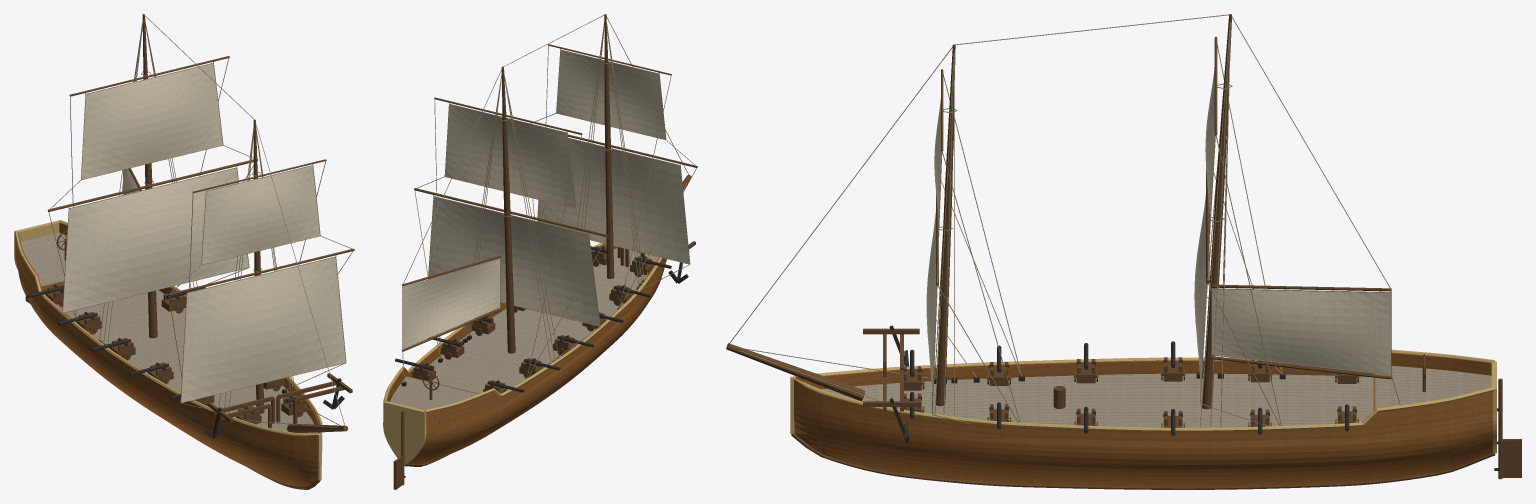
File: ship.glb
The picture shows the model from 3 angles, left to right: view 1: azimuth 30°, elevation 25°; view 2: azimuth 150°, elevation 25°; view 3: azimuth 270°, elevation 25°; orthographic projection. The views are drawn at different scales.
Parts seen in each view (by area): view 1: fore_square_00, main_square_00, main_square_01, hull_shell_starboard, fore_square_01, main_deck, castle_deck_0, gunwale_starboard, main, main_square_00_yard, stern_closure, fore_square_00_yard (+5 smaller); view 2: main_square_00, fore_square_00, main_square_01, main_deck, hull_shell_starboard, fore_square_01, main_gaff_02, stern_closure, main, fore, castle_deck_0, gunwale_starboard (+8 smaller); view 3: hull_shell_port, main_deck, main_gaff_02, hull_shell_starboard, castle_deck_0, gunwale_port, main, fore, keel, gunwale_starboard, bowsprit, main_square_00 (+2 smaller).
Part boxes in pixels (x1,y1,x2,y2): fore_square_00: [181, 257, 345, 402]; main_square_00: [63, 168, 248, 312]; main_square_01: [81, 63, 222, 179]; hull_shell_starboard: [16, 232, 317, 486]; fore_square_01: [202, 165, 319, 264]; main_deck: [56, 290, 317, 433]; castle_deck_0: [21, 232, 66, 286]; gunwale_starboard: [14, 230, 317, 436]; main: [142, 14, 157, 338]; main_square_00_yard: [47, 159, 257, 211]; stern_closure: [14, 220, 59, 269]; fore_square_00_yard: [168, 248, 354, 295]; main_square_00: [428, 197, 599, 326]; fore_square_00: [537, 138, 689, 263]; main_square_01: [445, 104, 575, 208]; main_deck: [430, 248, 658, 393]; hull_shell_starboard: [407, 257, 666, 464]; fore_square_01: [556, 50, 665, 139]; main_gaff_02: [403, 259, 499, 348]; stern_closure: [383, 401, 426, 464]; main: [501, 66, 515, 353]; fore: [604, 14, 614, 278]; castle_deck_0: [390, 376, 477, 410]; gunwale_starboard: [424, 257, 661, 412]; hull_shell_port: [794, 379, 1493, 487]; main_deck: [821, 373, 1373, 427]; main_gaff_02: [1212, 289, 1390, 374]; hull_shell_starboard: [795, 352, 1491, 389]; castle_deck_0: [1375, 366, 1491, 408]; gunwale_port: [793, 378, 1494, 431]; main: [1202, 14, 1231, 409]; fore: [936, 44, 955, 406]; keel: [791, 433, 1495, 489]; gunwale_starboard: [793, 349, 1494, 376]; bowsprit: [726, 343, 865, 401]; main_square_00: [1194, 195, 1206, 393].
Bounding box in the file's own units: 9.88 × 17.21 × 26.09.
Materials: 7 (7 with a texture image).
